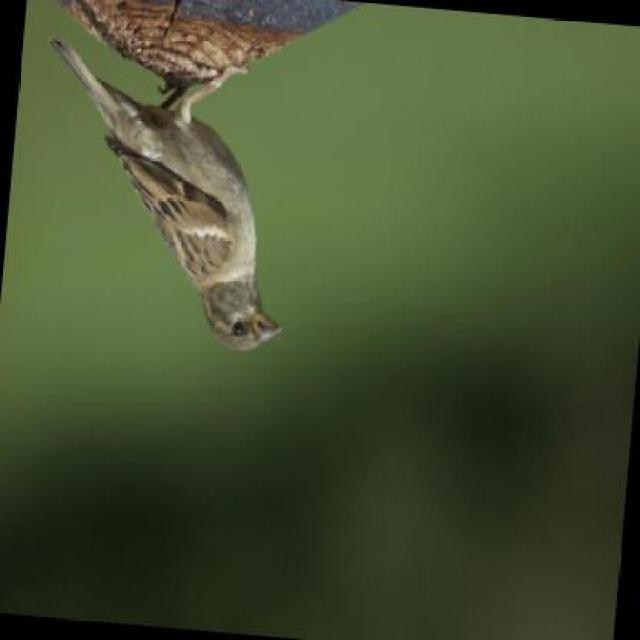Bird: (48, 28, 297, 355)
